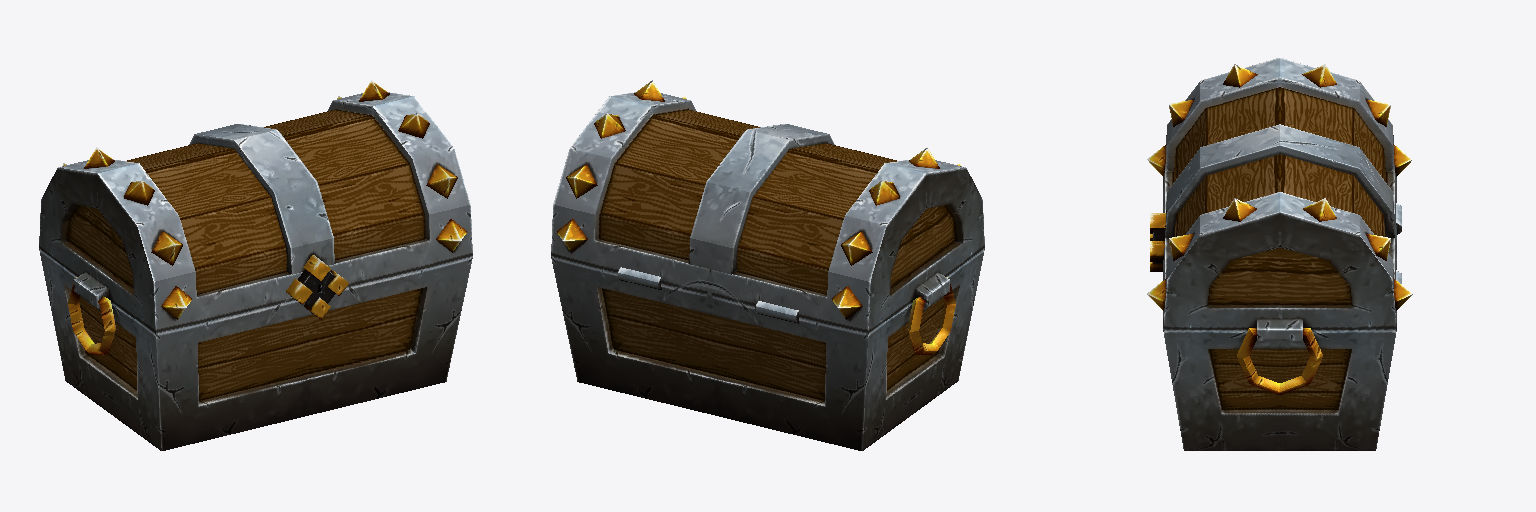
3 views of the same model, side by side, from view 1: azimuth 30°, elevation 25°; view 2: azimuth 150°, elevation 25°; view 3: azimuth 270°, elevation 25° (orthographic).
Visible parts, largest first — view 1: chest; view 2: chest; view 3: chest.
Boxes of the visible parts, x1,y1,x2,y2 form: chest: [39, 80, 472, 450]; chest: [551, 80, 984, 450]; chest: [1147, 58, 1412, 450].
Bounding box in the file's own units: 1.43 × 1.01 × 0.9677.
1 materials, 1 textured.